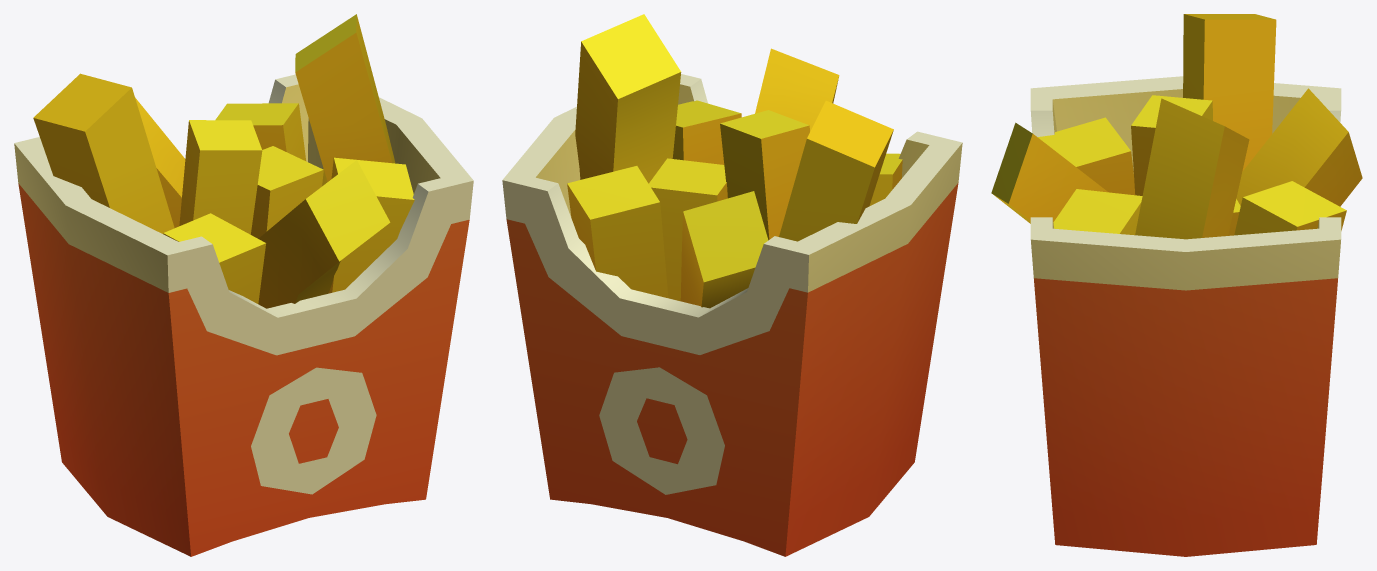
The model's file is PatatoFree.fbx.
The picture shows the model from 3 angles, left to right: view 1: azimuth 30°, elevation 25°; view 2: azimuth 150°, elevation 25°; view 3: azimuth 270°, elevation 25°; orthographic projection.
Visible parts, largest first — view 1: PatatoFree; view 2: PatatoFree; view 3: PatatoFree.
Part boxes in pixels (x1=…): PatatoFree: x1=14, y1=14, x2=473, y2=556; PatatoFree: x1=502, y1=14, x2=962, y2=556; PatatoFree: x1=991, y1=14, x2=1362, y2=556.
Size of the model in its own units: 3.61 by 4.21 by 3.22.
